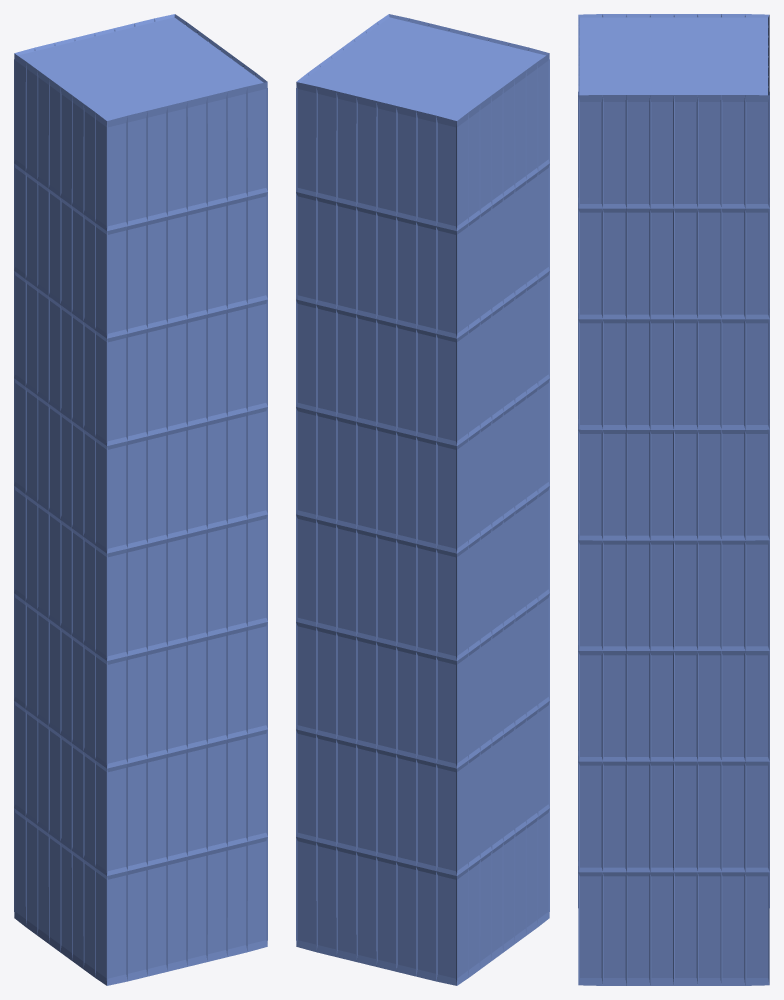
Rendered from PilvenPiirtäjä-Uusi.fbx.
3 views of the same model, side by side, from view 1: azimuth 30°, elevation 25°; view 2: azimuth 150°, elevation 25°; view 3: azimuth 270°, elevation 25° (orthographic). The views are drawn at different scales.
Parts seen in each view (by area): view 1: Cube; view 2: Cube; view 3: Cube.
Boxes of the visible parts, x1,y1,x2,y2 form: Cube: [14, 14, 267, 985]; Cube: [296, 14, 549, 985]; Cube: [578, 14, 769, 985].
Bounding box in the file's own units: 202 × 1037 × 202.
